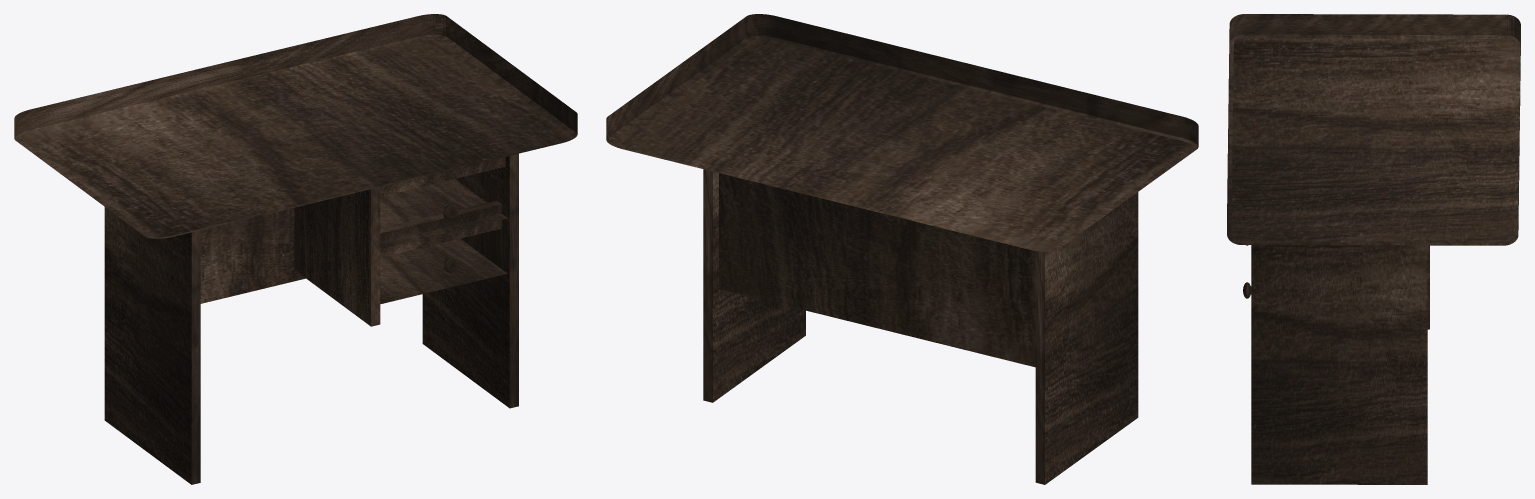
3 renders of one model, left to right at view 1: azimuth 30°, elevation 25°; view 2: azimuth 150°, elevation 25°; view 3: azimuth 270°, elevation 25°, orthographic. The views are drawn at different scales.
Visible parts, largest first — view 1: Cube.014; view 2: Cube.014; view 3: Cube.014.
Boxes of the visible parts, x1=… form: Cube.014: x1=14, y1=14, x2=577, y2=484; Cube.014: x1=606, y1=14, x2=1198, y2=484; Cube.014: x1=1227, y1=14, x2=1520, y2=484.
Size of the model in its own units: 3.43 by 2.17 by 2.02.
2 materials, 1 textured.
